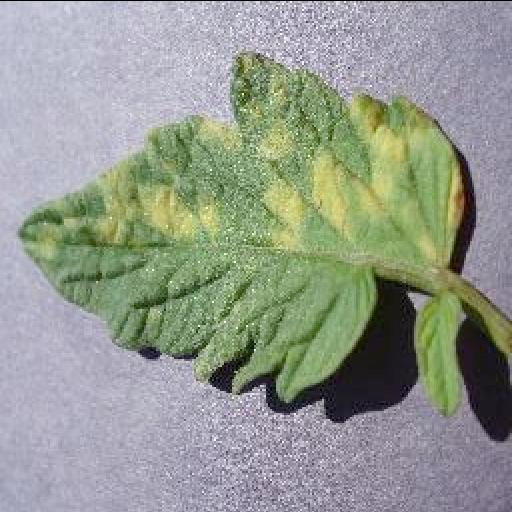disease_tomato: (16, 49, 466, 405)
